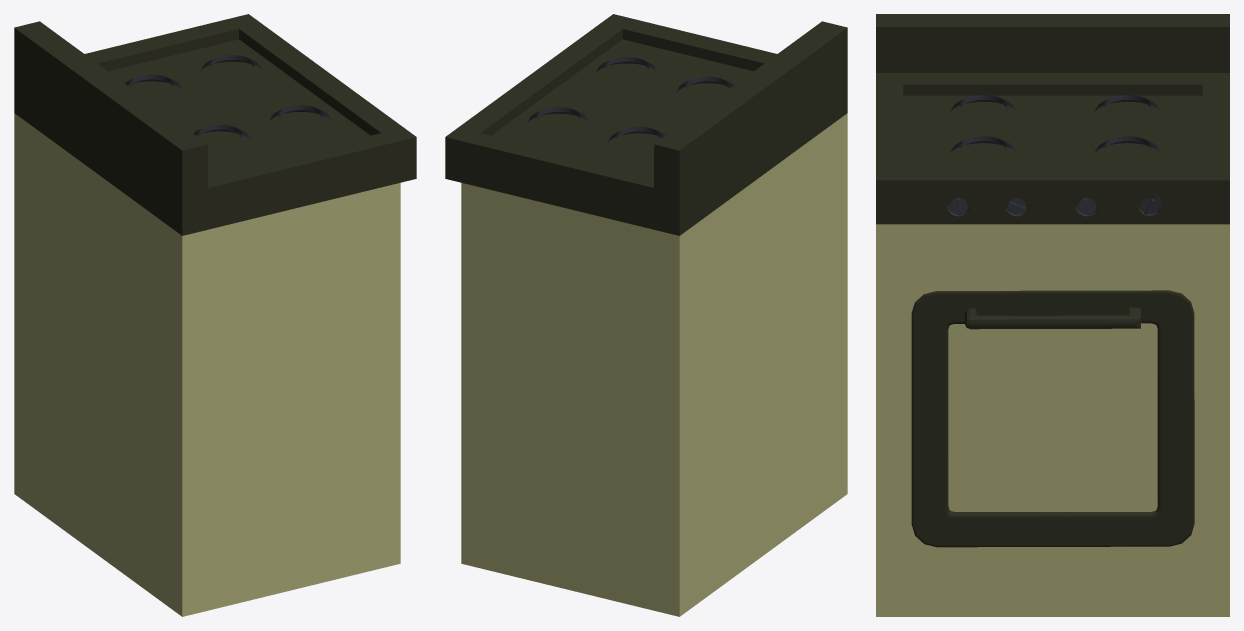
File: estufa (1).fbx
3 views of the same model, side by side, from view 1: azimuth 30°, elevation 25°; view 2: azimuth 150°, elevation 25°; view 3: azimuth 270°, elevation 25° (orthographic). The views are drawn at different scales.
Visible parts, largest first — view 1: Circle; view 2: Circle; view 3: Circle, Cube.004.
Part boxes in pixels (<box>): Circle: <box>14,14,416,616</box>; Circle: <box>445,14,847,616</box>; Circle: <box>876,14,1229,616</box>; Cube.004: <box>911,290,1194,547</box>.
Bounding box in the file's own units: 133 × 245 × 160.
